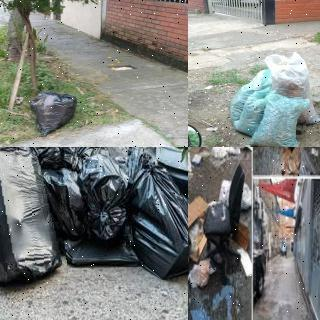Garbage: (0, 147, 64, 283), (125, 154, 188, 279), (82, 154, 135, 240), (265, 53, 320, 125), (39, 168, 89, 239), (254, 90, 307, 147), (26, 89, 83, 137), (236, 95, 268, 135), (79, 147, 132, 168), (18, 147, 77, 164)
